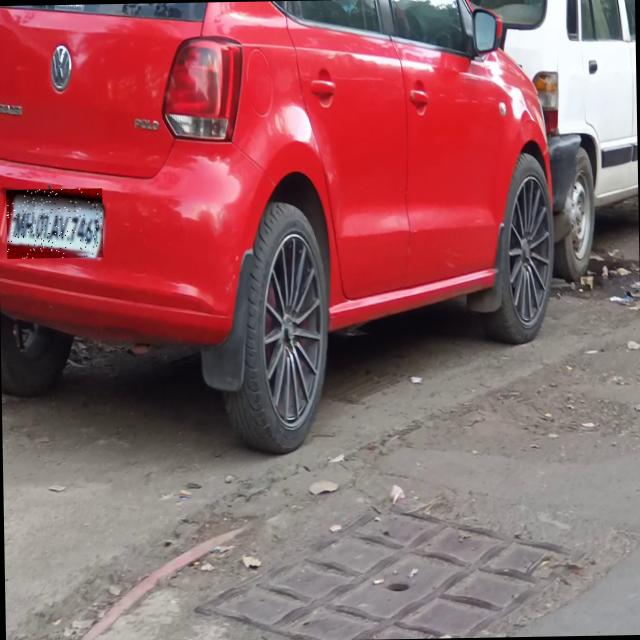Plate: (7, 189, 104, 260)
